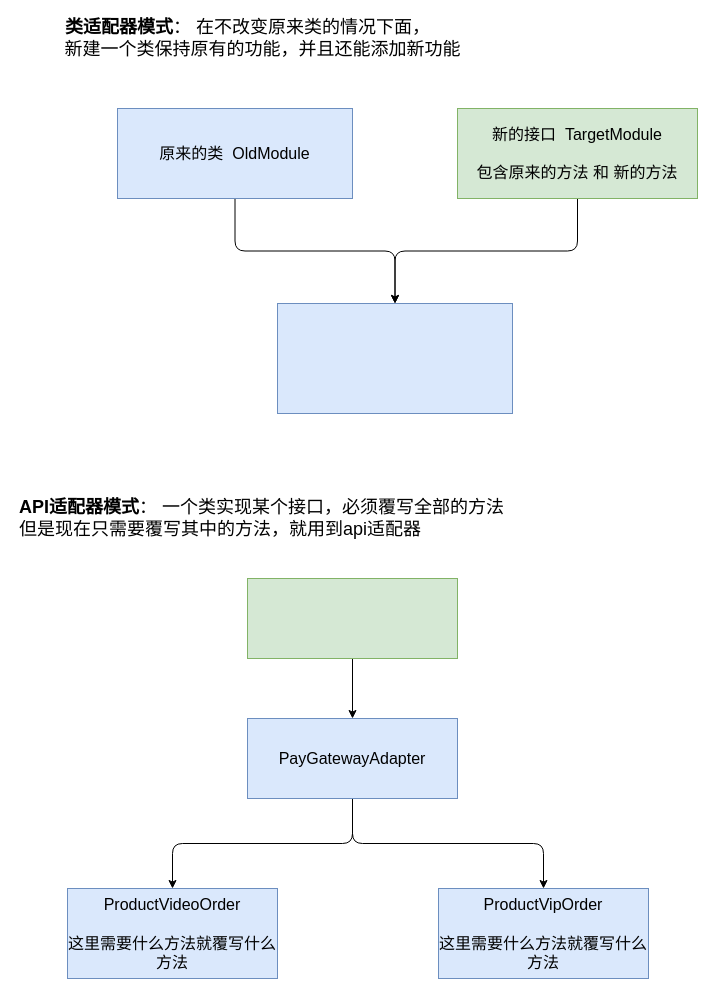
Some shapes in this 715 by 996 pixel diagram are drawn without their labels. Here are the shapes that lost their labels. From the top down, the centre of each, then its label:
the point at 394,358: 新的适配类 OldModuleAdapter 实现并且覆写新的方法，即可代替原来的类
the point at 352,618: PayGateway
